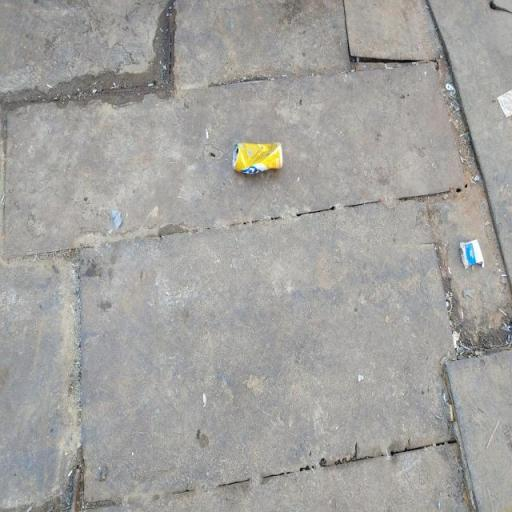metal: (224, 118, 295, 200)
